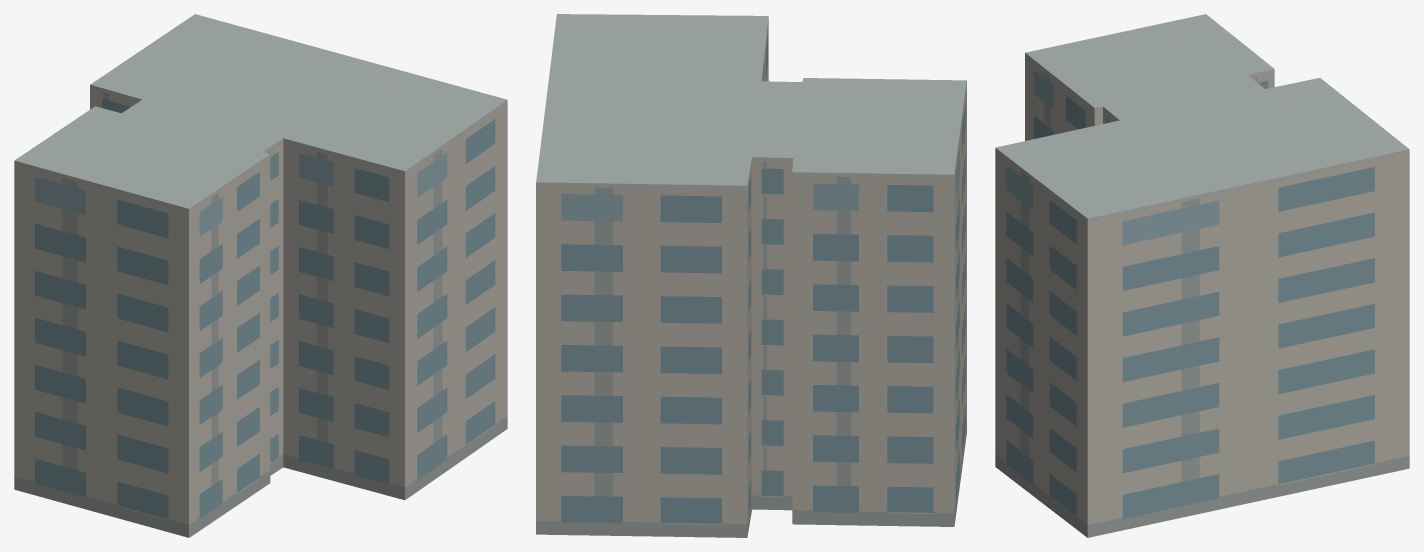
File: survey-upis-32961365.glb
3 views of the same model, side by side, from view 1: azimuth 30°, elevation 25°; view 2: azimuth 150°, elevation 25°; view 3: azimuth 270°, elevation 25° (orthographic). The views are drawn at different scales.
Parts seen in each view (by area): view 1: survey-upis-32961365.tmp; view 2: survey-upis-32961365.tmp; view 3: survey-upis-32961365.tmp.
Part boxes in pixels (x1,y1,x2,y2): survey-upis-32961365.tmp: [14, 14, 507, 537]; survey-upis-32961365.tmp: [536, 14, 966, 537]; survey-upis-32961365.tmp: [995, 14, 1409, 537].
Size of the model in its own units: 28.75 by 20.9 by 24.6.
